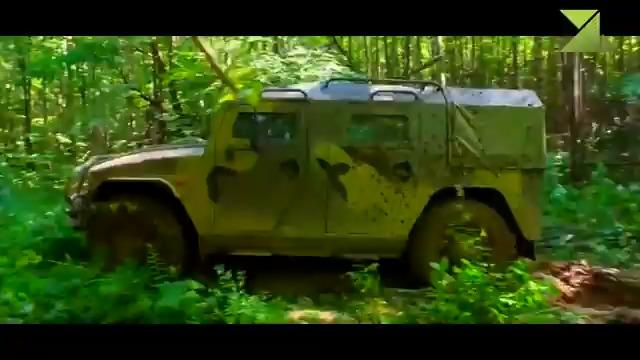MIL_HMMWV: (65, 81, 546, 284)
